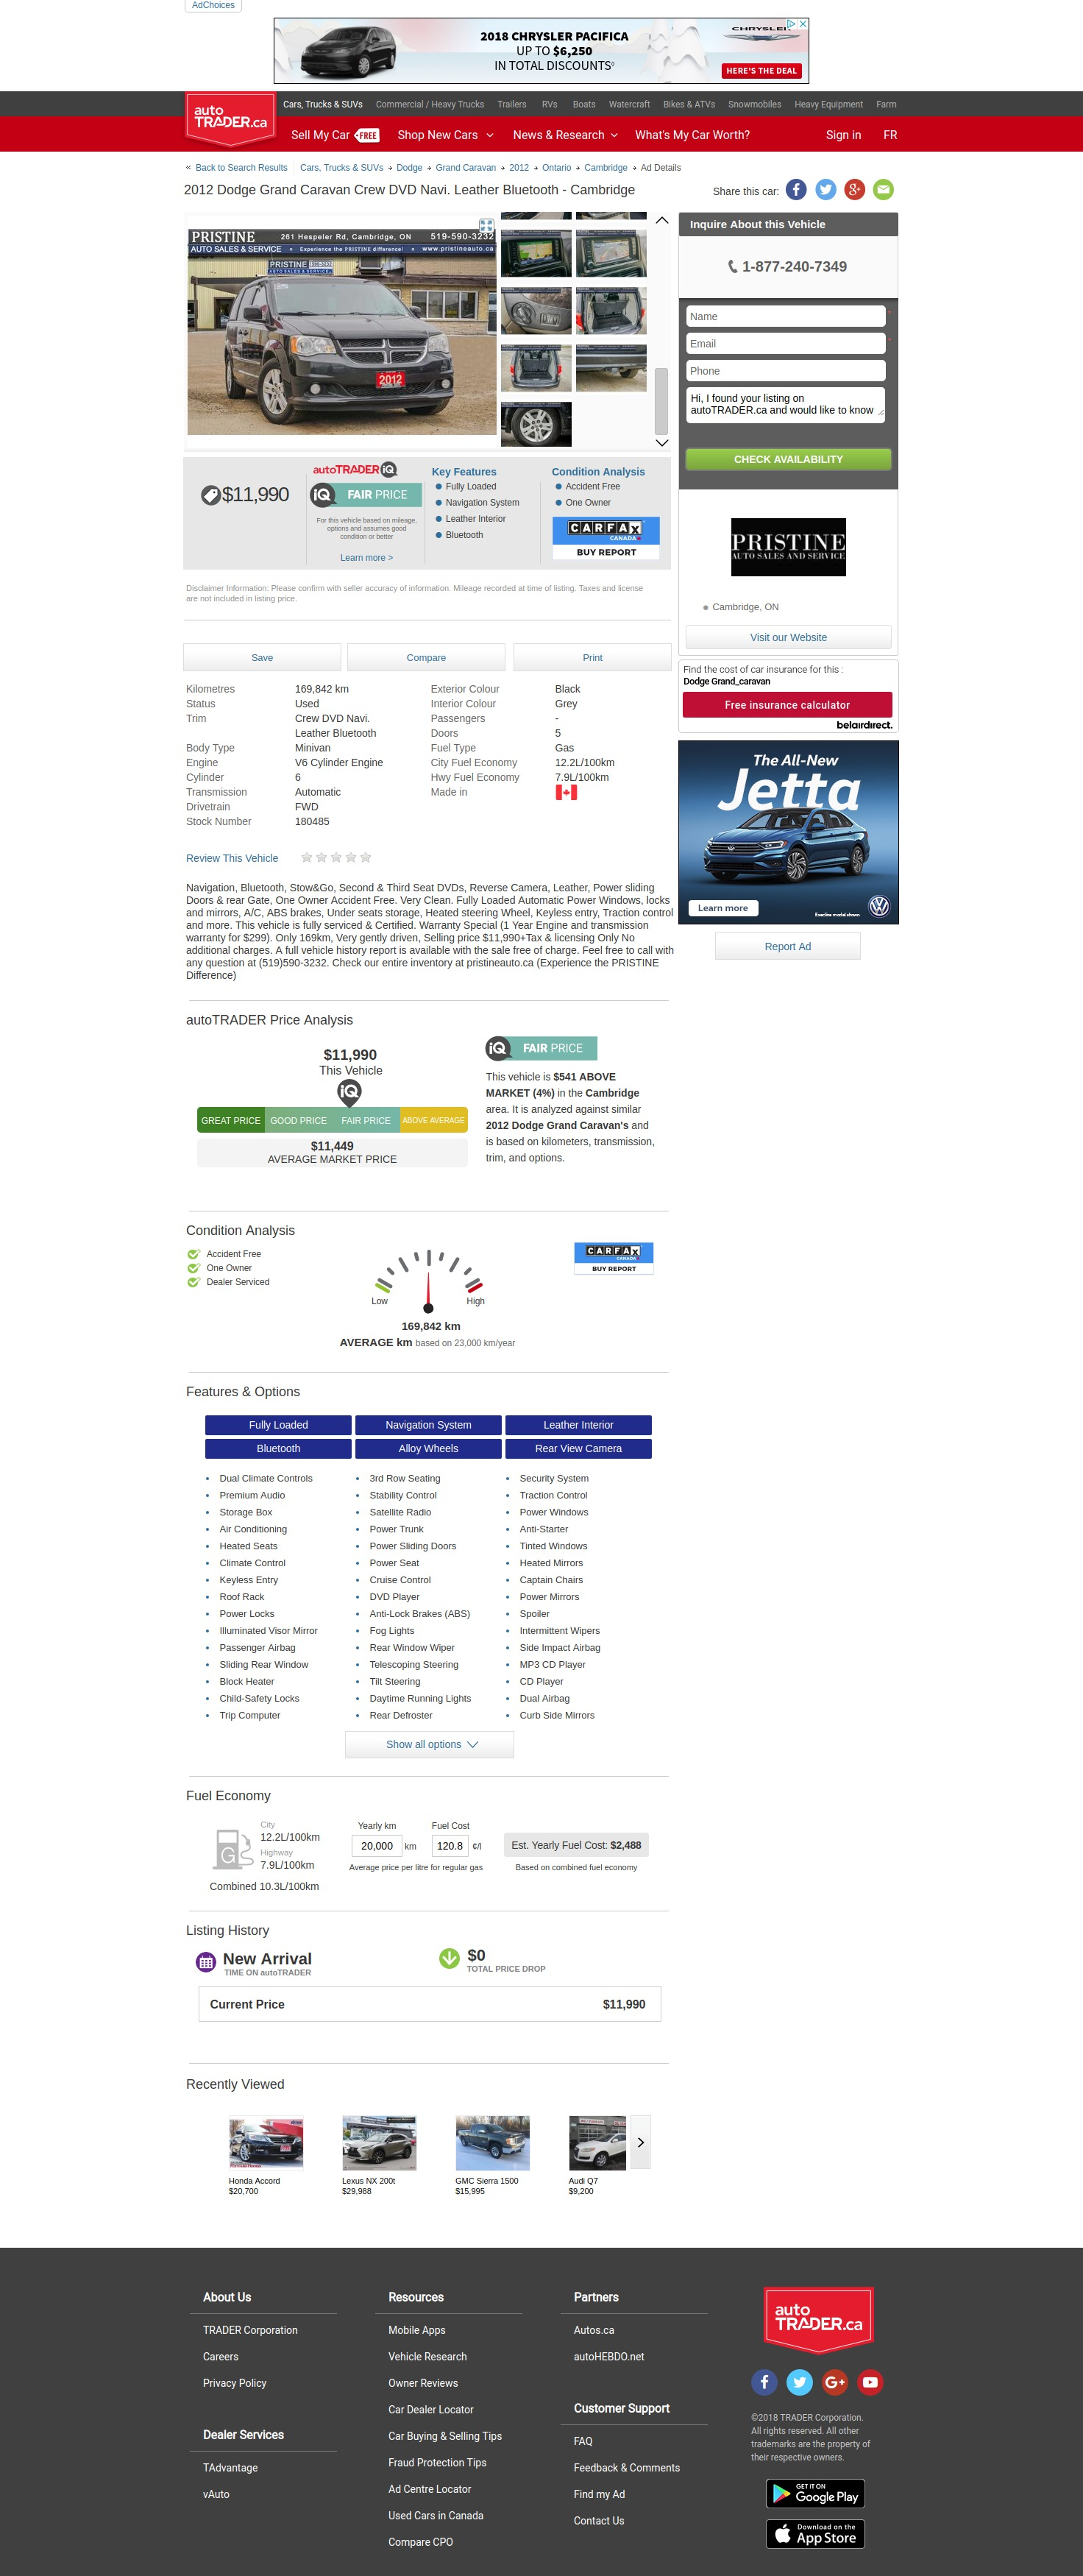car: (654, 439, 671, 448)
